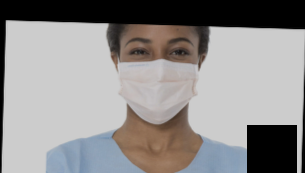with_mask: (116, 34, 197, 125)
